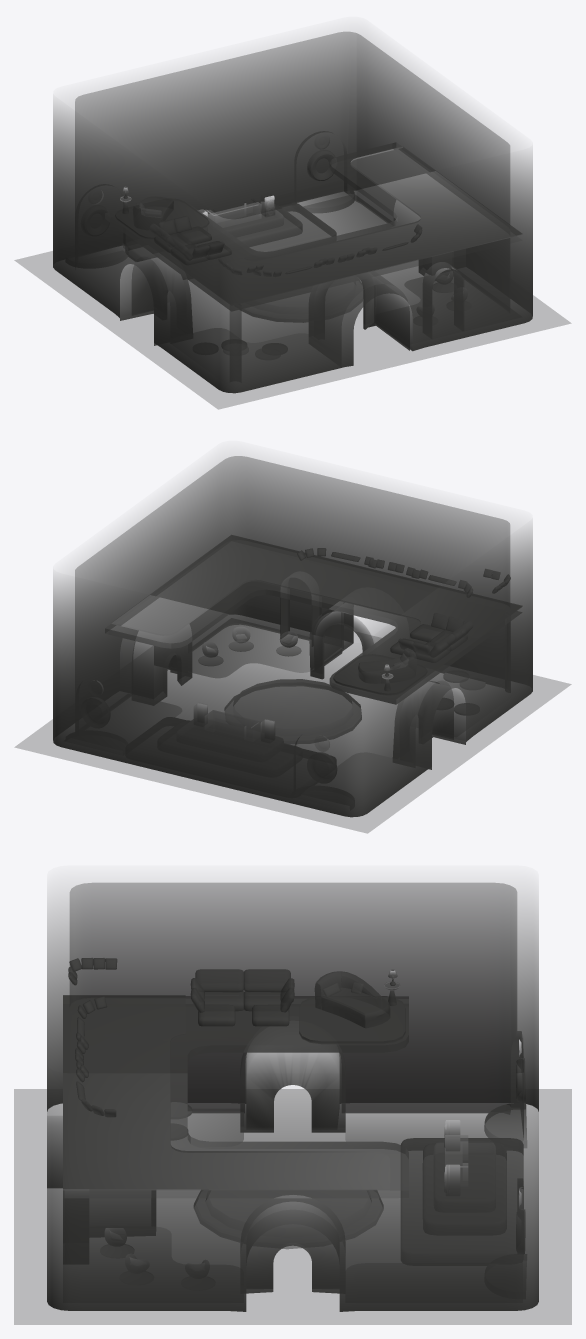
Rendered from clubGrunge.glb.
3 views of the same model, one above another, from view 1: azimuth 30°, elevation 25°; view 2: azimuth 150°, elevation 25°; view 3: azimuth 270°, elevation 25° (orthographic). The views are drawn at different scales.
Visible parts, largest first — view 1: Walls.003, Walls.002, MezzRug.001, floor-mezz.001, Floor3.001, screen.006, Entrance.007, Entrance.009, sofa-067.001, DanceFloor.003, InnerCornersSpeakers.003, Entrance.002 (+10 smaller); view 2: Walls.003, Walls.002, floor-mezz.001, MezzRug.001, Floor3.001, DanceFloor.003, screen.006, InnerCorners.002, Entrance.007, Entrance.003, Entrance.009, sofa-067.001 (+10 smaller); view 3: Walls.003, Walls.002, Floor3.001, MezzRug.001, floor-mezz.001, screen.006, Entrance.007, Entrance.003, DanceFloor.003, sofa-067.001, Cube.002, sofa.001 (+9 smaller).
Part boxes in pixels (<box>): Walls.003: <box>53,56,532,393</box>; Walls.002: <box>75,32,509,298</box>; MezzRug.001: <box>187,147,521,304</box>; floor-mezz.001: <box>105,142,514,311</box>; Floor3.001: <box>14,200,570,409</box>; screen.006: <box>125,198,336,279</box>; Entrance.007: <box>120,255,192,345</box>; Entrance.009: <box>309,276,409,350</box>; sofa-067.001: <box>149,215,231,264</box>; DanceFloor.003: <box>241,280,362,322</box>; InnerCornersSpeakers.003: <box>123,195,388,272</box>; Entrance.002: <box>373,281,412,350</box>; Walls.003: <box>53,480,532,817</box>; Walls.002: <box>75,456,509,769</box>; floor-mezz.001: <box>105,565,522,704</box>; MezzRug.001: <box>116,535,521,638</box>; Floor3.001: <box>15,632,571,833</box>; DanceFloor.003: <box>224,679,361,743</box>; screen.006: <box>137,710,336,773</box>; InnerCorners.002: <box>192,618,310,677</box>; Entrance.007: <box>393,679,465,769</box>; Entrance.003: <box>131,633,192,701</box>; Entrance.009: <box>309,609,395,679</box>; sofa-067.001: <box>390,613,473,662</box>; Walls.003: <box>47,896,538,1311</box>; Walls.002: <box>69,883,523,1254</box>; Floor3.001: <box>14,1089,571,1324</box>; MezzRug.001: <box>63,995,389,1189</box>; floor-mezz.001: <box>63,996,408,1190</box>; screen.006: <box>401,1135,523,1262</box>; Entrance.007: <box>240,1052,345,1132</box>; Entrance.003: <box>241,1205,344,1293</box>; DanceFloor.003: <box>194,1190,383,1248</box>; sofa-067.001: <box>190,969,294,1026</box>; Cube.002: <box>299,996,405,1043</box>; sofa.001: <box>314,971,390,1028</box>.
Bounding box in the file's own units: 32 × 15.81 × 32.
1 material, 1 textured.
